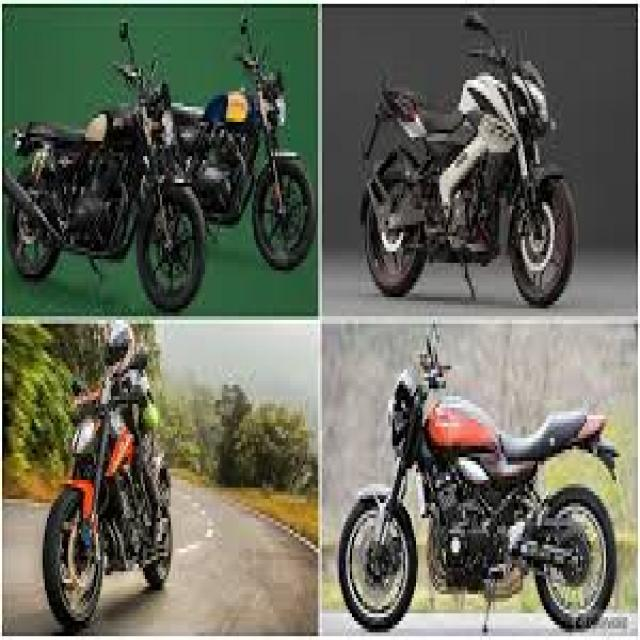Bike: (339, 324, 625, 640), (350, 18, 586, 303), (13, 10, 205, 309), (32, 312, 190, 636)
